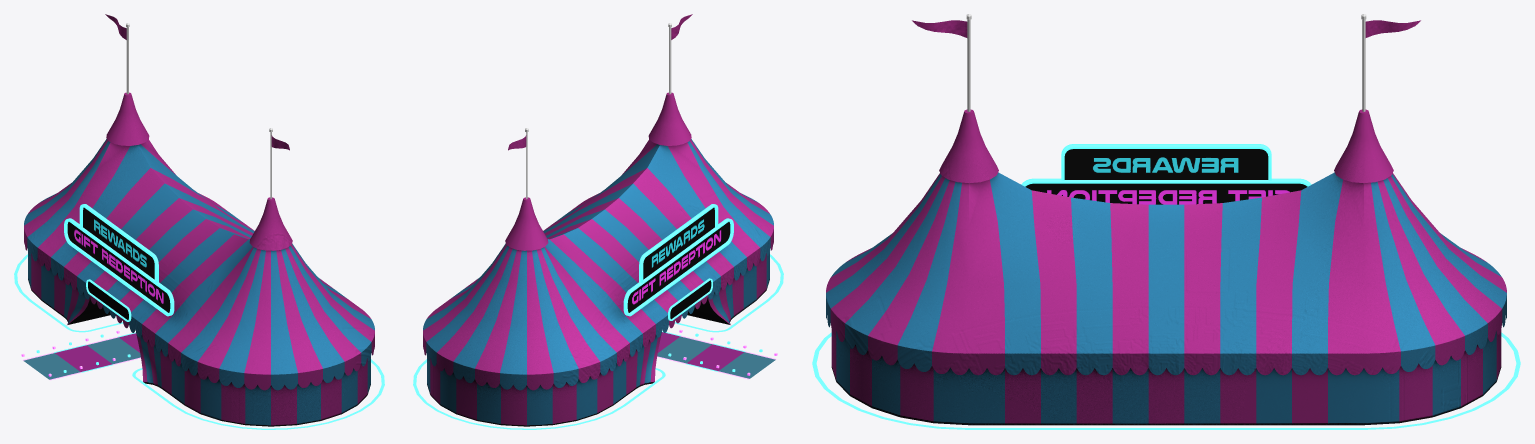
The model's file is tentReward.glb.
3 renders of one model, left to right at view 1: azimuth 30°, elevation 25°; view 2: azimuth 150°, elevation 25°; view 3: azimuth 270°, elevation 25°, orthographic. The views are drawn at different scales.
Visible parts, largest first — view 1: tentReward, Plane.016, Plane.025, Plane.014, Plane.015, Plane.039; view 2: tentReward, Plane.016, Plane.025, Plane.014, Plane.015, Plane.039; view 3: tentReward, Plane.016, Plane.014, Plane.015.
Part boxes in pixels (x1,y1,x2,y2): tentReward: (14, 14, 384, 429); Plane.016: (67, 207, 170, 312); Plane.025: (21, 330, 140, 380); Plane.014: (64, 218, 174, 316); Plane.015: (79, 204, 158, 282); Plane.039: (88, 281, 128, 319); tentReward: (413, 14, 783, 429); Plane.016: (627, 207, 730, 312); Plane.025: (657, 329, 777, 379); Plane.014: (623, 218, 733, 316); Plane.015: (639, 204, 718, 282); Plane.039: (670, 280, 711, 319); tentReward: (812, 14, 1520, 429); Plane.016: (1025, 149, 1307, 204); Plane.014: (1021, 178, 1311, 186); Plane.015: (1061, 144, 1271, 180).
Bounding box in the file's own units: 1.73 × 1.62 × 2.94.
9 materials, 3 textured.
